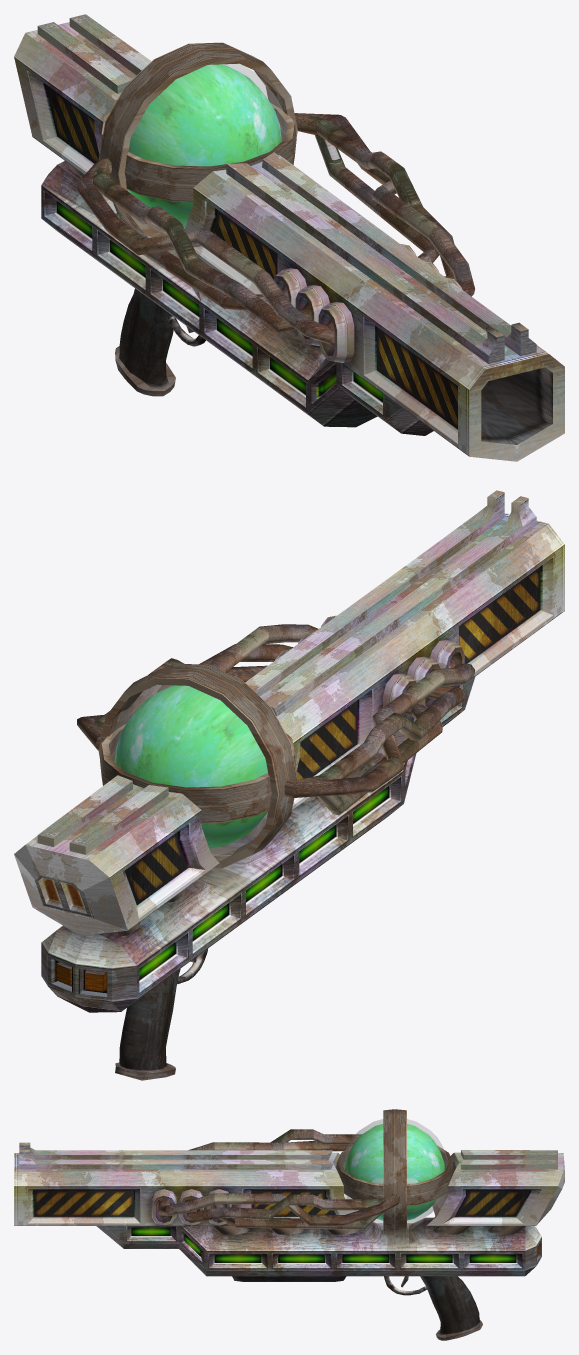
File: DF_Cyst.fbx
The picture shows the model from 3 angles, top to bottom: view 1: azimuth 30°, elevation 25°; view 2: azimuth 150°, elevation 25°; view 3: azimuth 270°, elevation 25°; orthographic projection. The views are drawn at different scales.
Parts seen in each view (by area): view 1: Upper_Gun, Side_Pipes, Lower_Gun, Glass, Goo, Goo_Ring_2, Handle, Goo_Ring_1, Lights; view 2: Upper_Gun, Lower_Gun, Side_Pipes, Glass, Goo, Goo_Ring_2, Handle, Goo_Ring_1, Lights; view 3: Upper_Gun, Lower_Gun, Side_Pipes, Glass, Goo, Handle, Goo_Ring_2, Lights, Goo_Ring_1, Joining_Pipes.
Part boxes in pixels (x1,y1,x2,y2): Upper_Gun: [14, 14, 564, 461]; Side_Pipes: [77, 113, 474, 362]; Lower_Gun: [41, 161, 433, 435]; Glass: [128, 64, 287, 228]; Goo: [128, 64, 281, 227]; Goo_Ring_2: [98, 42, 297, 237]; Handle: [115, 288, 205, 396]; Goo_Ring_1: [100, 103, 296, 202]; Lights: [56, 200, 382, 401]; Upper_Gun: [14, 490, 564, 935]; Lower_Gun: [41, 676, 475, 1012]; Side_Pipes: [77, 615, 474, 815]; Glass: [109, 685, 267, 855]; Goo: [114, 685, 268, 848]; Goo_Ring_2: [98, 663, 297, 868]; Handle: [115, 948, 207, 1080]; Goo_Ring_1: [100, 724, 296, 823]; Lights: [139, 786, 388, 980]; Upper_Gun: [14, 1142, 564, 1225]; Lower_Gun: [96, 1217, 541, 1281]; Side_Pipes: [151, 1129, 400, 1229]; Glass: [341, 1119, 448, 1224]; Goo: [345, 1124, 445, 1220]; Handle: [384, 1276, 482, 1340]; Goo_Ring_2: [383, 1109, 406, 1235]; Lights: [131, 1227, 517, 1262]; Goo_Ring_1: [336, 1145, 454, 1205]; Joining_Pipes: [211, 1216, 525, 1234].
Size of the model in its own units: 0.3394 by 0.4467 by 1.
